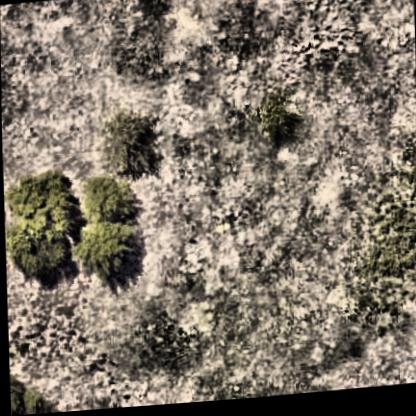tree-top: (6, 173, 75, 282), (76, 174, 139, 285), (93, 111, 163, 182), (249, 98, 299, 144), (7, 373, 57, 416)
